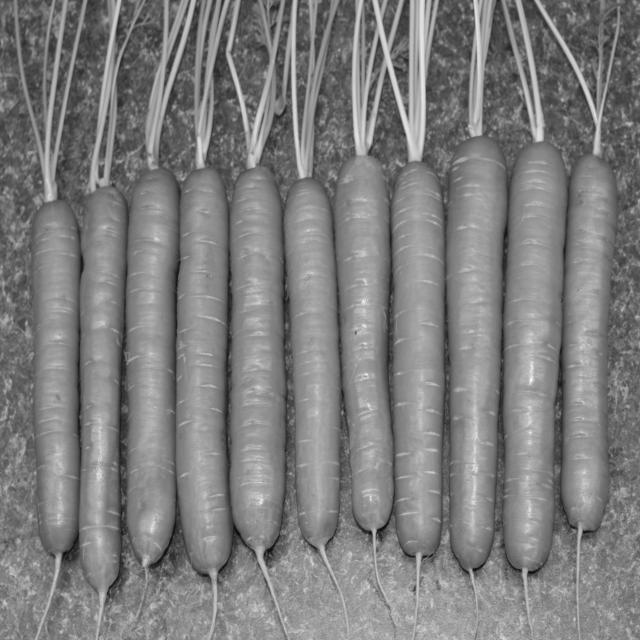Fresh_Carrot: (500, 133, 568, 586), (446, 125, 512, 562), (556, 151, 615, 538), (334, 161, 394, 538), (28, 203, 79, 636), (237, 166, 290, 570), (130, 176, 180, 550), (184, 169, 232, 554), (395, 150, 440, 553), (83, 196, 132, 564), (294, 167, 327, 534)
